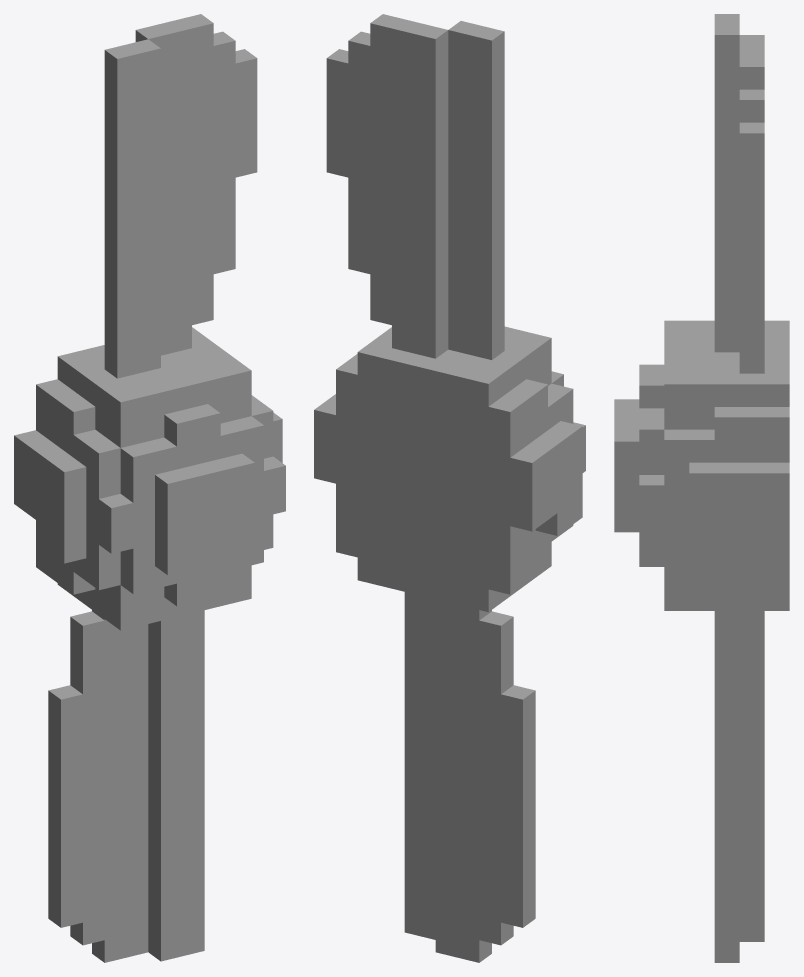
File: Camel_Pro.obj
The picture shows the model from 3 angles, left to right: view 1: azimuth 30°, elevation 25°; view 2: azimuth 150°, elevation 25°; view 3: azimuth 270°, elevation 25°; orthographic projection.
Visible parts, largest first — view 1: Camel_Pro; view 2: Camel_Pro; view 3: Camel_Pro.
Boxes of the visible parts, x1=… form: Camel_Pro: x1=14, y1=14, x2=285, y2=962; Camel_Pro: x1=314, y1=14, x2=585, y2=962; Camel_Pro: x1=614, y1=14, x2=789, y2=962.
Bounding box in the file's own units: 10 × 40 × 7.
1 material, 1 textured.
